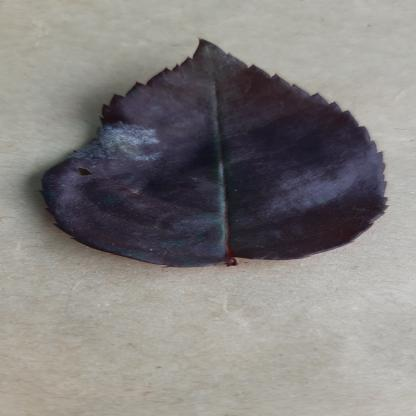powdery-mildew: (20, 40, 395, 270)
